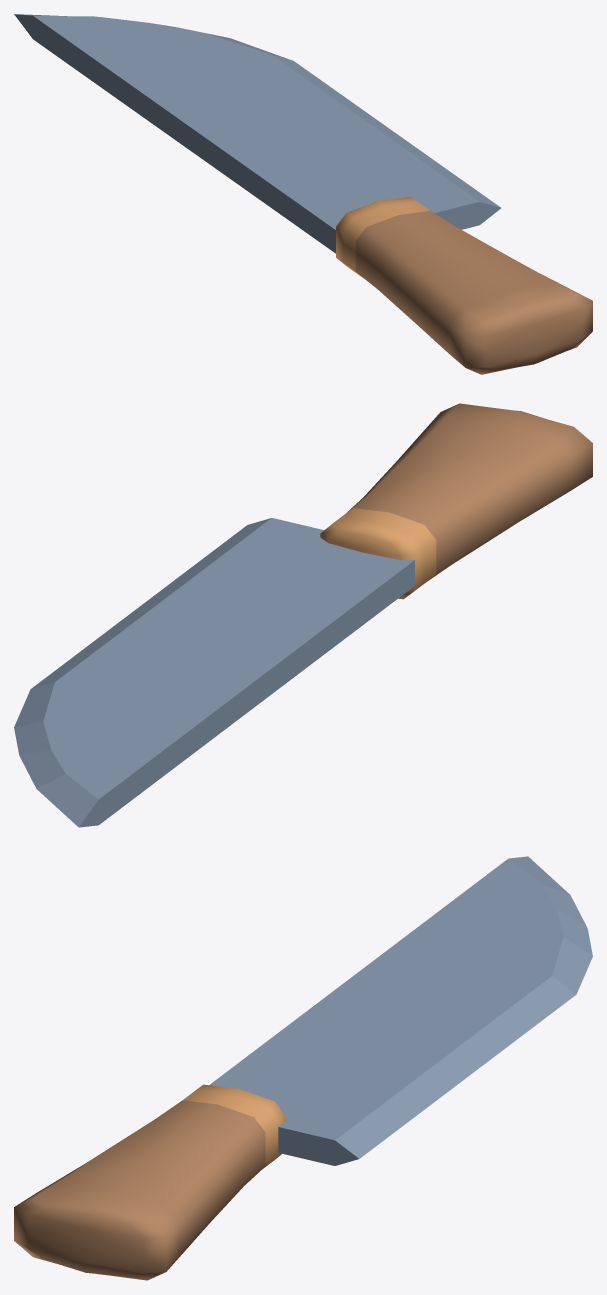
File: ChefKnife.glb
3 views of the same model, one above another, from view 1: azimuth 30°, elevation 25°; view 2: azimuth 150°, elevation 25°; view 3: azimuth 330°, elevation 25° (orthographic). The views are drawn at different scales.
Visible parts, largest first — view 1: Environment_CuttingTable; view 2: Environment_CuttingTable; view 3: Environment_CuttingTable.
Part boxes in pixels (box(x1,y1,x2,y2)): Environment_CuttingTable: box(14, 14, 592, 374); Environment_CuttingTable: box(14, 403, 592, 827); Environment_CuttingTable: box(14, 856, 592, 1280).
Bounding box in the file's own units: 0.4276 × 0.1425 × 1.96.
Materials: 1 (1 with a texture image).
